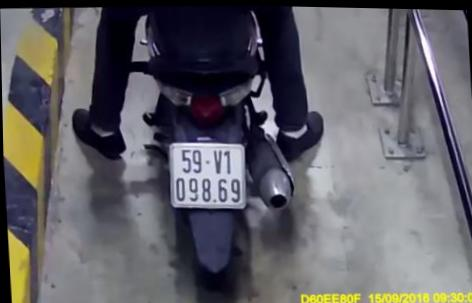LP: (164, 136, 250, 212)
